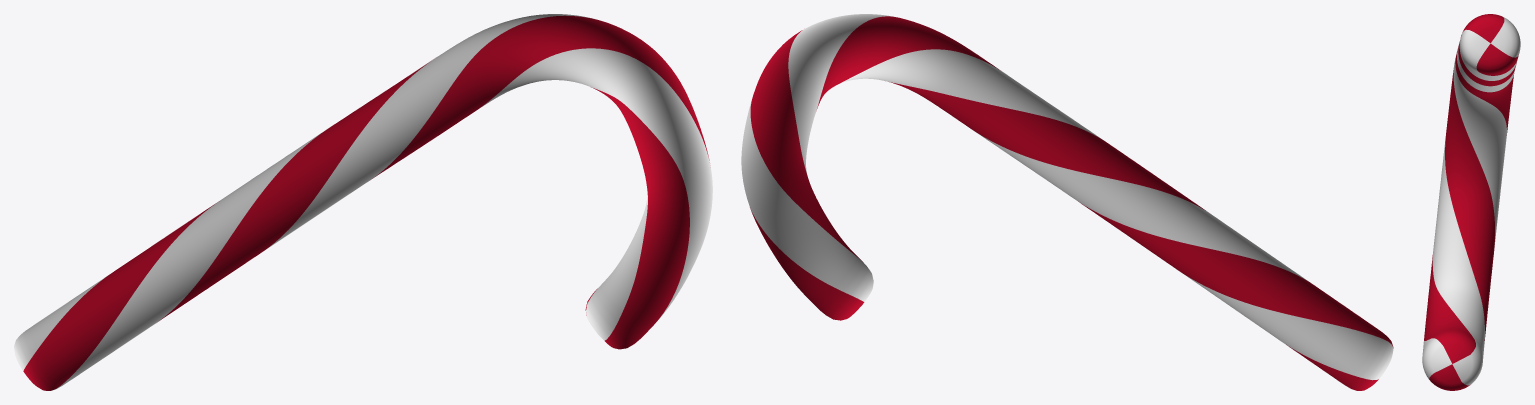
Rendered from candy_cane_rotated.glb.
3 views of the same model, side by side, from view 1: azimuth 30°, elevation 25°; view 2: azimuth 150°, elevation 25°; view 3: azimuth 270°, elevation 25° (orthographic). The views are drawn at different scales.
Size of the model in its own units: 0.208 by 0.0984 by 0.0289.
